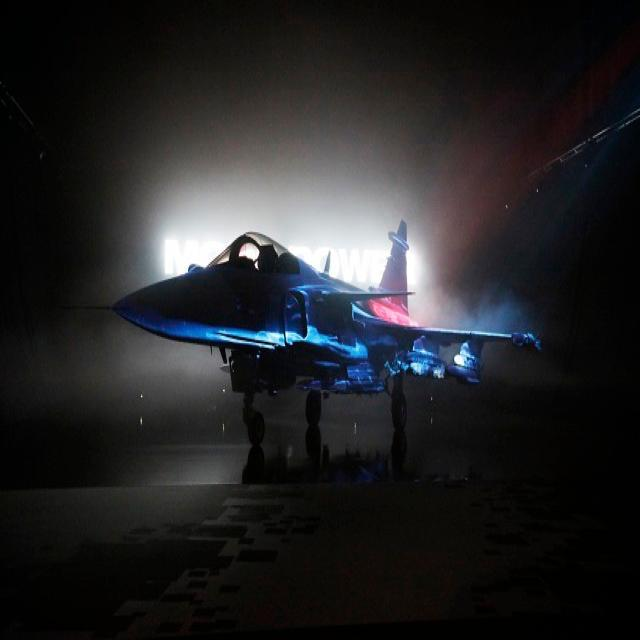MIL_Plane: (61, 217, 543, 444)
